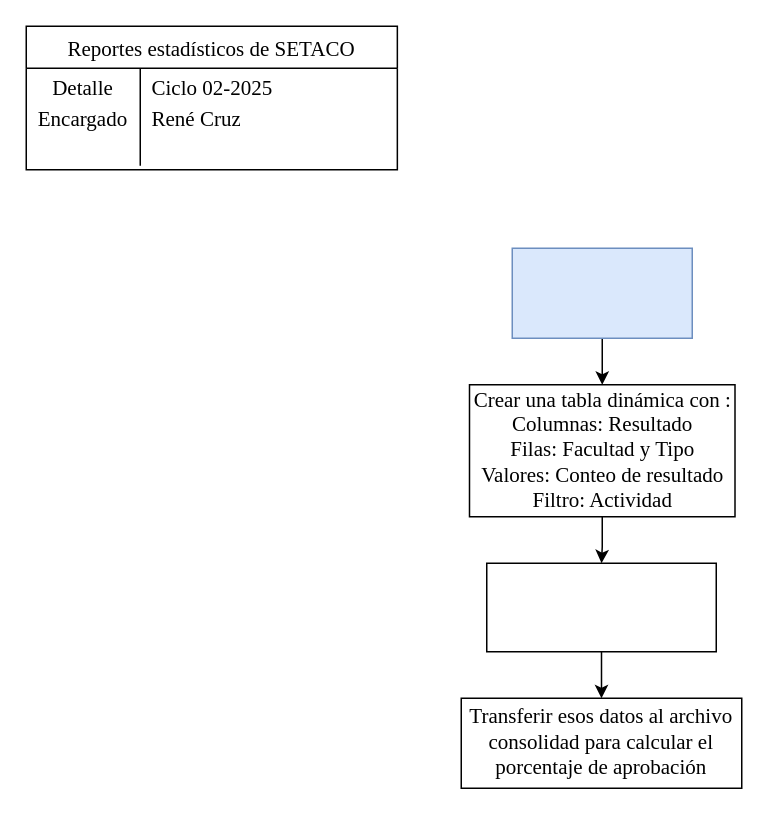
Image size: 768x815. Some labels were removed from this diagram. Here are the shapes that lost their labels. From the top down, the centre of each, then its label:
At point (601, 292): "Análisis de resultados (Pruebas de entrada)".
At point (600, 607): "Extraer los totales de Aprobado y Reprobado por facultad y modalidad".
